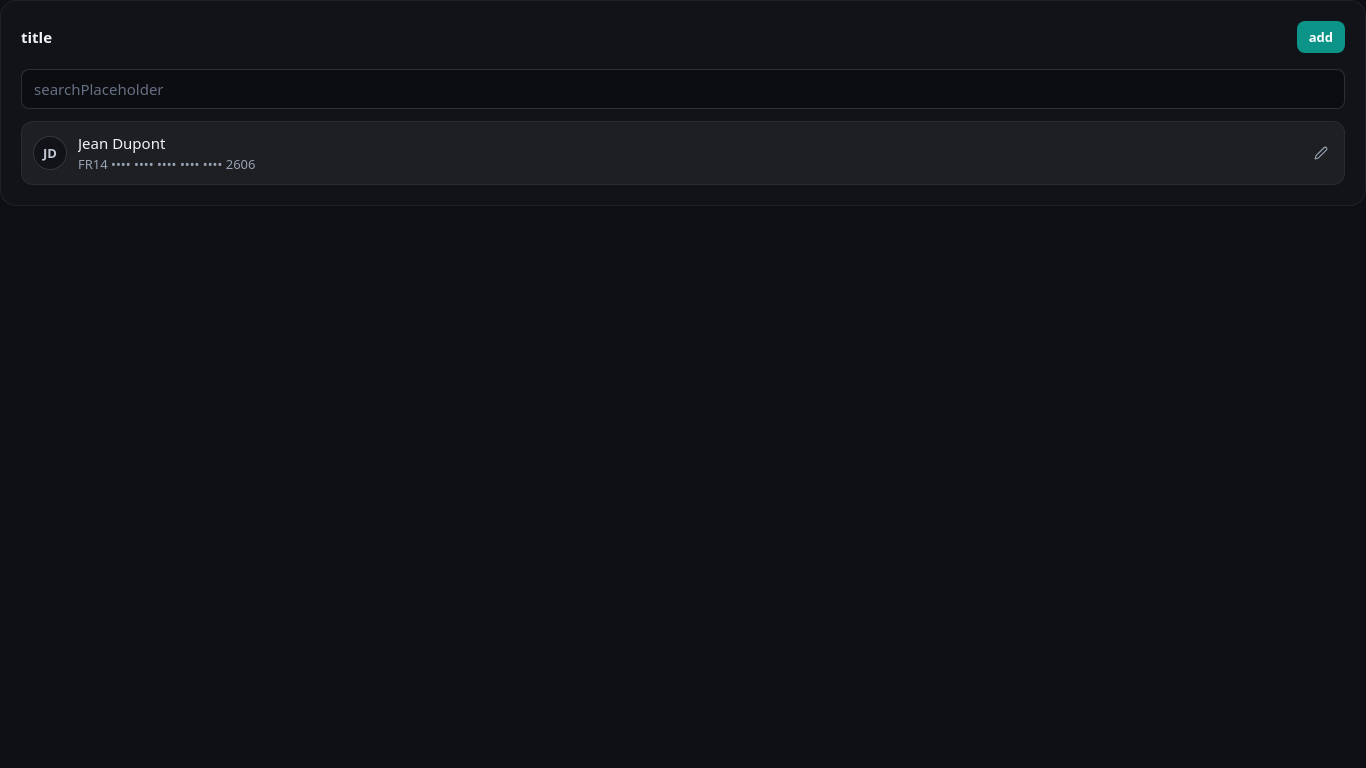
Test: BeneficiariesPanel › ouvre la modal d’édition (libellé seul, IBAN masqué) via le crayon
This screenshot has width=1366, height=768.
Expected: the text "Jean Dupont" is shown, [78, 133, 165, 153]
Click the button named "editAria".
click(1321, 153)  # box [1306, 138, 1336, 168]
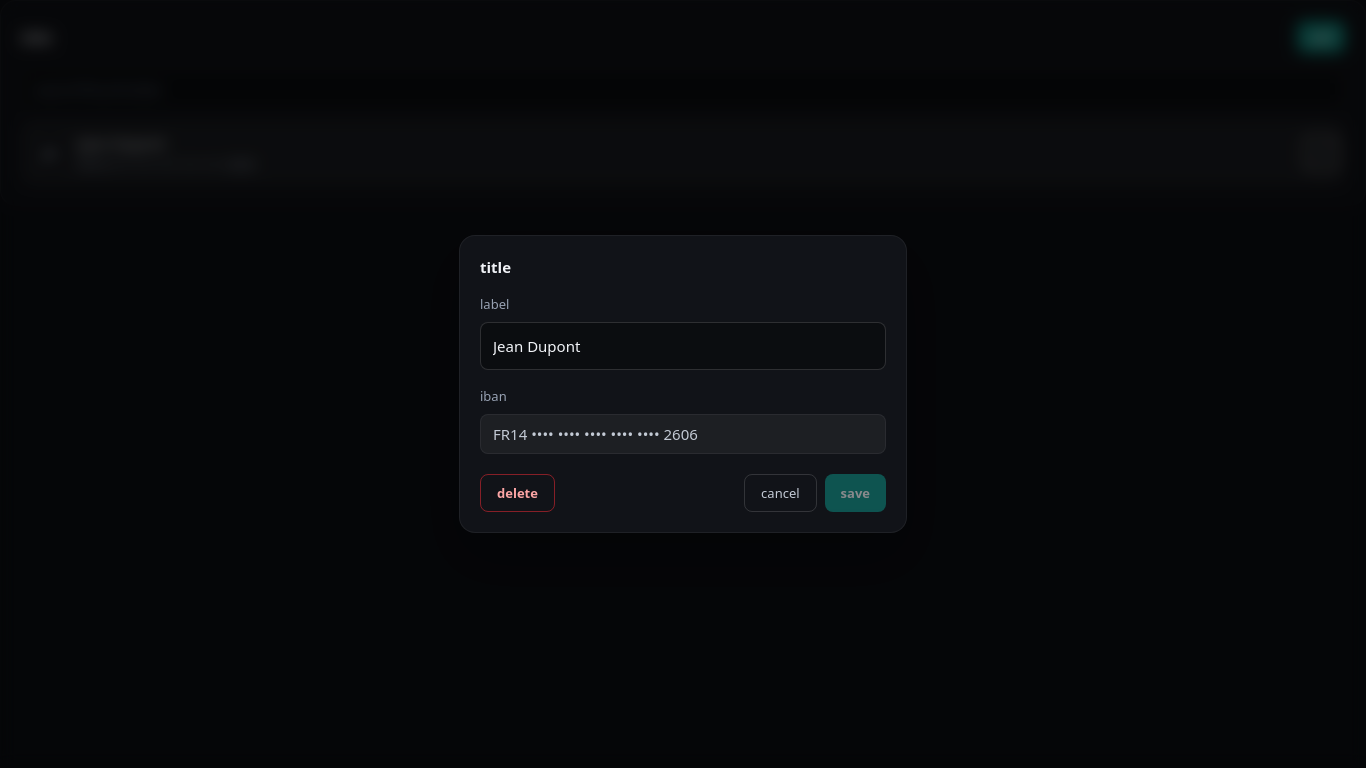
Expected: the dialog shows "title", [480, 257, 511, 277]
Expected: the field showing "Jean Dupont" is shown, [480, 322, 886, 370]
Expected: the dialog shows "FR14 •••• •••• •••• •••• •••• 2606", [493, 424, 698, 444]
